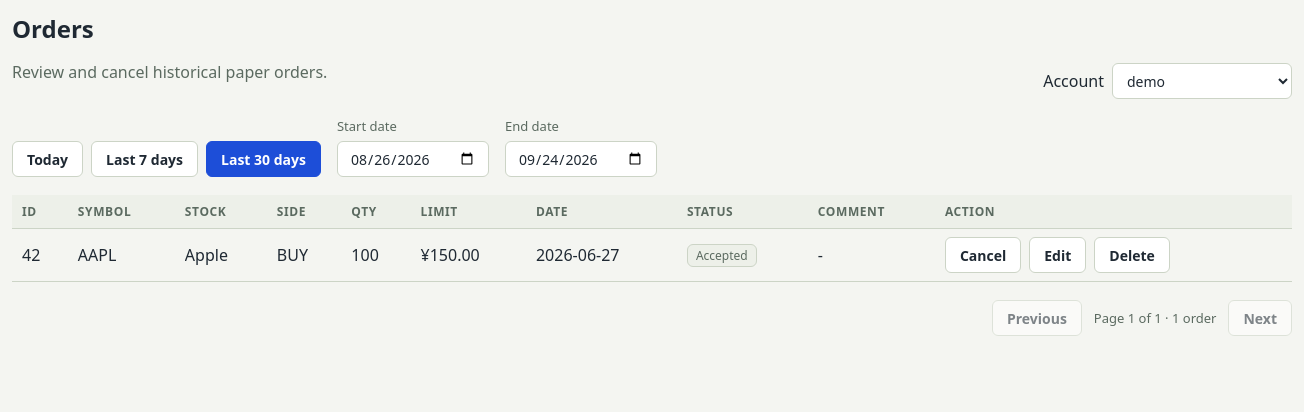
it: OrdersPage › shows ErrorBanner when cancellation fails
Click the button "Cancel".
click(983, 255)  # box [945, 237, 1021, 273]
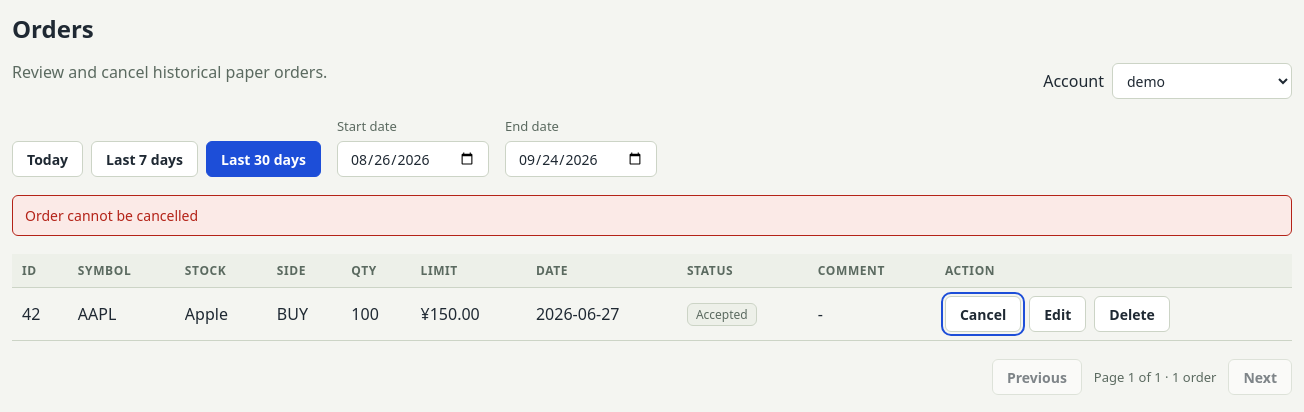
Check: the message reads "Order cannot be cancelled", box [25, 206, 198, 225]
